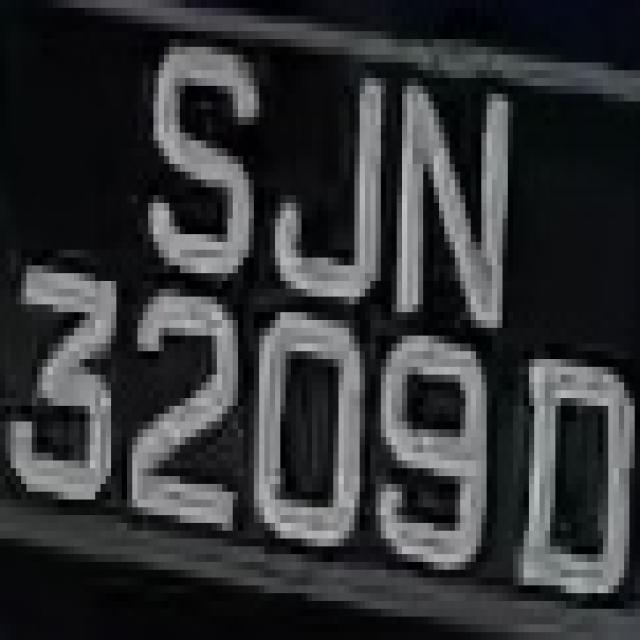0: (254, 273, 370, 562)
2: (105, 250, 248, 538)
3: (0, 226, 122, 538)
9: (370, 304, 508, 586)
D: (502, 336, 640, 624)
J: (270, 31, 391, 320)
N: (381, 55, 508, 351)
S: (116, 8, 270, 289)
